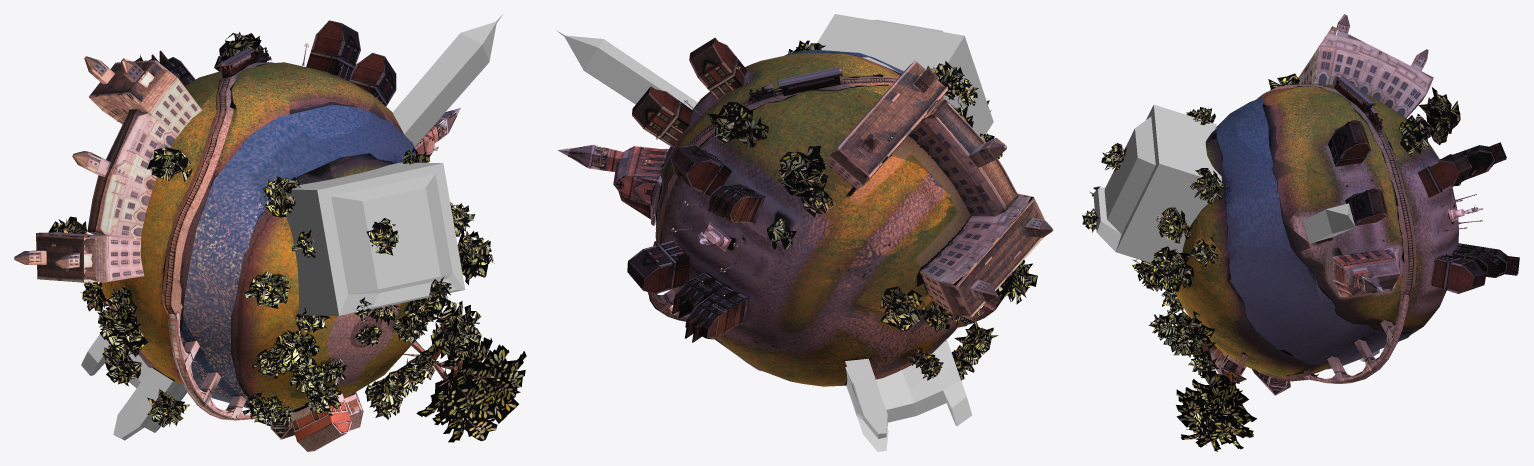
The model's file is EnolaMobile.fbx.
3 renders of one model, left to right at view 1: azimuth 30°, elevation 25°; view 2: azimuth 150°, elevation 25°; view 3: azimuth 270°, elevation 25°, orthographic. The views are drawn at different scales.
Visible parts, largest first — view 1: Planeta.001, CasaPlanta.FINAL, RIOO, CASTELAO, PonteTrilho.001, arvore casa, Arvores4.001, Arvores5.001, Arvores6.001, Arvores3.001, CasasfInal, CasteloFINAL (+4 smaller); view 2: Planeta.001, CASTELAO, CasasfInal, CasaPlanta.FINAL, CasteloFINAL, Arvores2.001, IgrejaFinal, Arvores3.001, PonteTrilho.001, TremCasaNaArvore.002, Arvores4.001, PropsPraca.001; view 3: Planeta.001, RIOO, CasaPlanta.FINAL, CasasfInal, CASTELAO, PonteTrilho.001, Arvores4.001, arvore casa, IgrejaFinal, Arvores6.001, Arvores2.001, EstacaoFinal (+2 smaller).
Part boxes in pixels (box(x1,y1,x2,y2)): Planeta.001: box(101, 62, 426, 412); CasaPlanta.FINAL: box(282, 14, 502, 315); RIOO: box(180, 104, 415, 408); CASTELAO: box(14, 56, 202, 282); PonteTrilho.001: box(162, 62, 273, 420); arvore casa: box(403, 337, 526, 442); Arvores4.001: box(263, 148, 494, 332); Arvores5.001: box(242, 272, 346, 426); Arvores6.001: box(354, 294, 481, 419); Arvores3.001: box(80, 282, 190, 427); CasasfInal: box(151, 20, 396, 106); CasteloFINAL: box(81, 334, 187, 440); Planeta.001: box(655, 53, 971, 386); CASTELAO: box(827, 60, 1053, 318); CasasfInal: box(627, 37, 765, 342); CasaPlanta.FINAL: box(556, 14, 993, 135); CasteloFINAL: box(845, 340, 971, 451); Arvores2.001: box(708, 102, 973, 331); IgrejaFinal: box(557, 144, 668, 225); Arvores3.001: box(907, 260, 1037, 380); PonteTrilho.001: box(647, 76, 1003, 327); TremCasaNaArvore.002: box(747, 66, 842, 102); Arvores4.001: box(788, 40, 991, 111); PropsPraca.001: box(643, 65, 748, 272); Planeta.001: box(1173, 84, 1458, 376); RIOO: box(1215, 97, 1413, 369); CasaPlanta.FINAL: box(1093, 104, 1355, 263); CasasfInal: box(1328, 119, 1519, 293); CASTELAO: box(1298, 14, 1433, 118); PonteTrilho.001: box(1256, 84, 1416, 383); Arvores4.001: box(1082, 107, 1224, 291); arvore casa: box(1176, 353, 1256, 451); IgrejaFinal: box(1332, 247, 1400, 297); Arvores6.001: box(1142, 263, 1219, 378); Arvores2.001: box(1268, 73, 1461, 185); EstacaoFinal: box(1192, 341, 1290, 395).
Size of the model in its own units: 17149 by 13383 by 16116.
